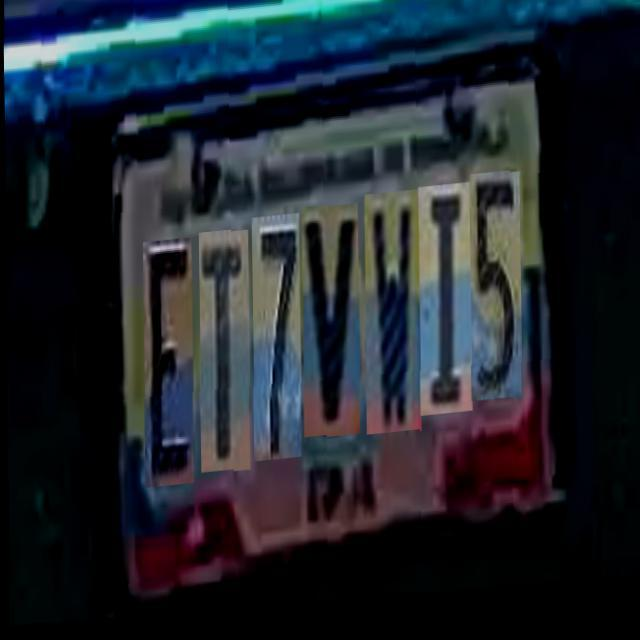5: (468, 173, 520, 404)
7: (250, 216, 300, 463)
E: (142, 240, 192, 488)
I: (416, 185, 472, 418)
T: (197, 231, 249, 475)
V: (300, 205, 358, 440)
W: (362, 193, 420, 437)
